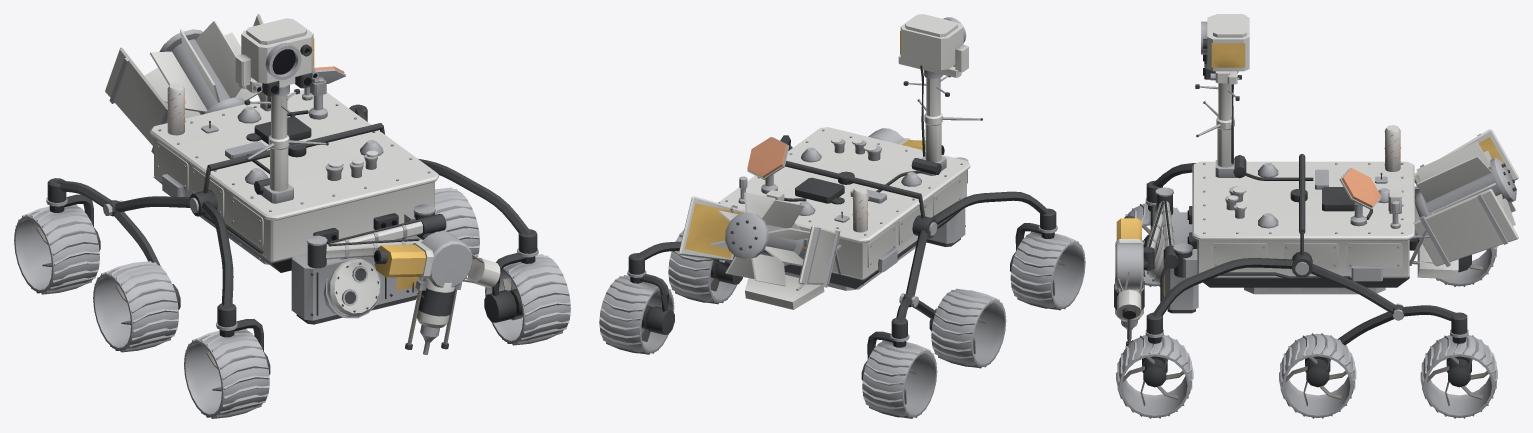
The picture shows the model from 3 angles, left to right: view 1: azimuth 30°, elevation 25°; view 2: azimuth 150°, elevation 25°; view 3: azimuth 270°, elevation 25°; orthographic projection. The views are drawn at different scales.
Visible parts, largest first — view 1: m2020_mesh, arm_mesh, mast_mesh; view 2: m2020_mesh, mast_mesh, arm_mesh; view 3: m2020_mesh, mast_mesh, arm_mesh.
Boxes of the visible parts, x1,y1,x2,y2 form: m2020_mesh: [14, 14, 570, 418]; arm_mesh: [306, 204, 500, 354]; mast_mesh: [235, 18, 328, 203]; m2020_mesh: [599, 127, 1085, 418]; mast_mesh: [898, 14, 982, 175]; arm_mesh: [868, 128, 968, 183]; m2020_mesh: [1116, 125, 1518, 418]; mast_mesh: [1195, 14, 1249, 178]; arm_mesh: [1114, 187, 1192, 345].
Bounding box in the file's own units: 2.54 × 2.3 × 2.86.
